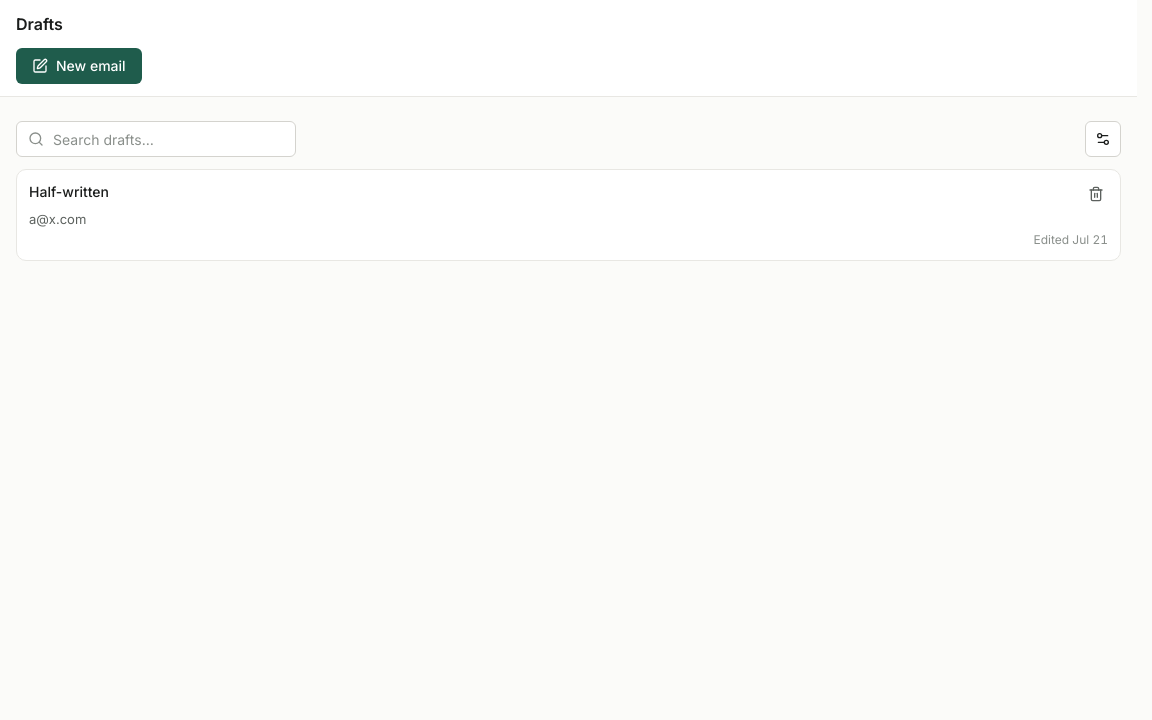
Test: list pages on a phone › gives a tappable card its own hit area, separate from its row actions
Expected: the text "Half-written" is shown, x1=29 y1=183 x2=109 y2=200
Click the button named "Delete draft" at (1096, 194), box x1=1080 y1=178 x2=1112 y2=210
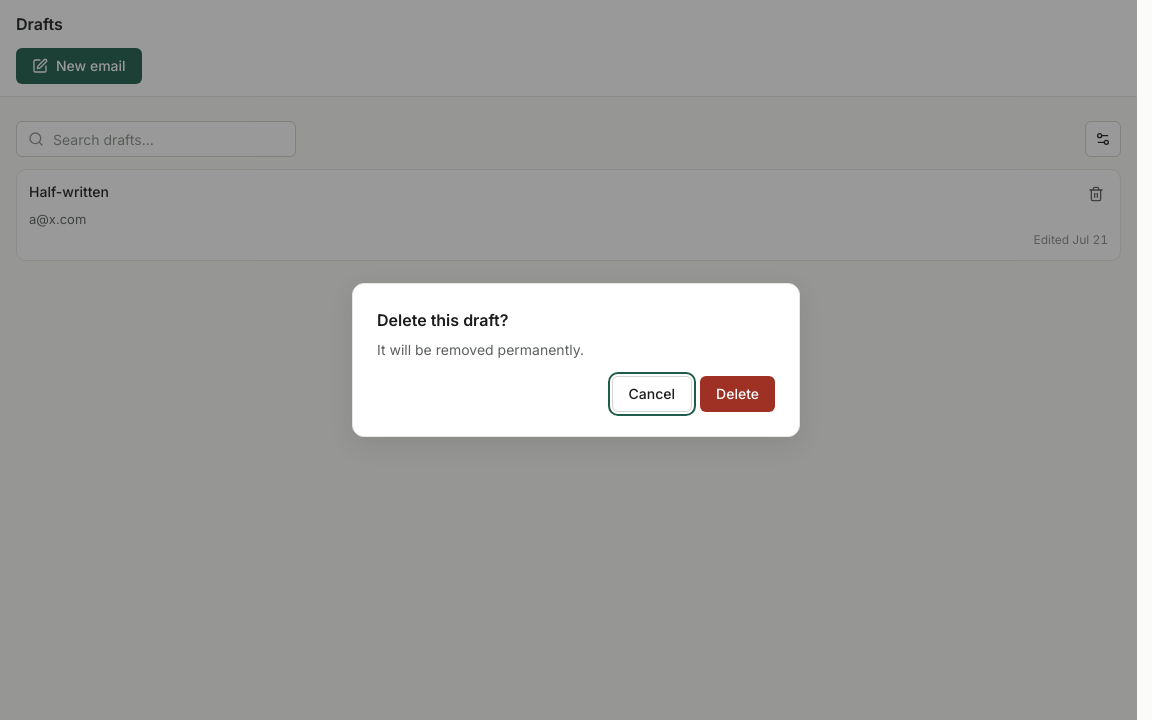
Now the heading "Delete this draft?" is shown, box x1=377 y1=310 x2=508 y2=330
